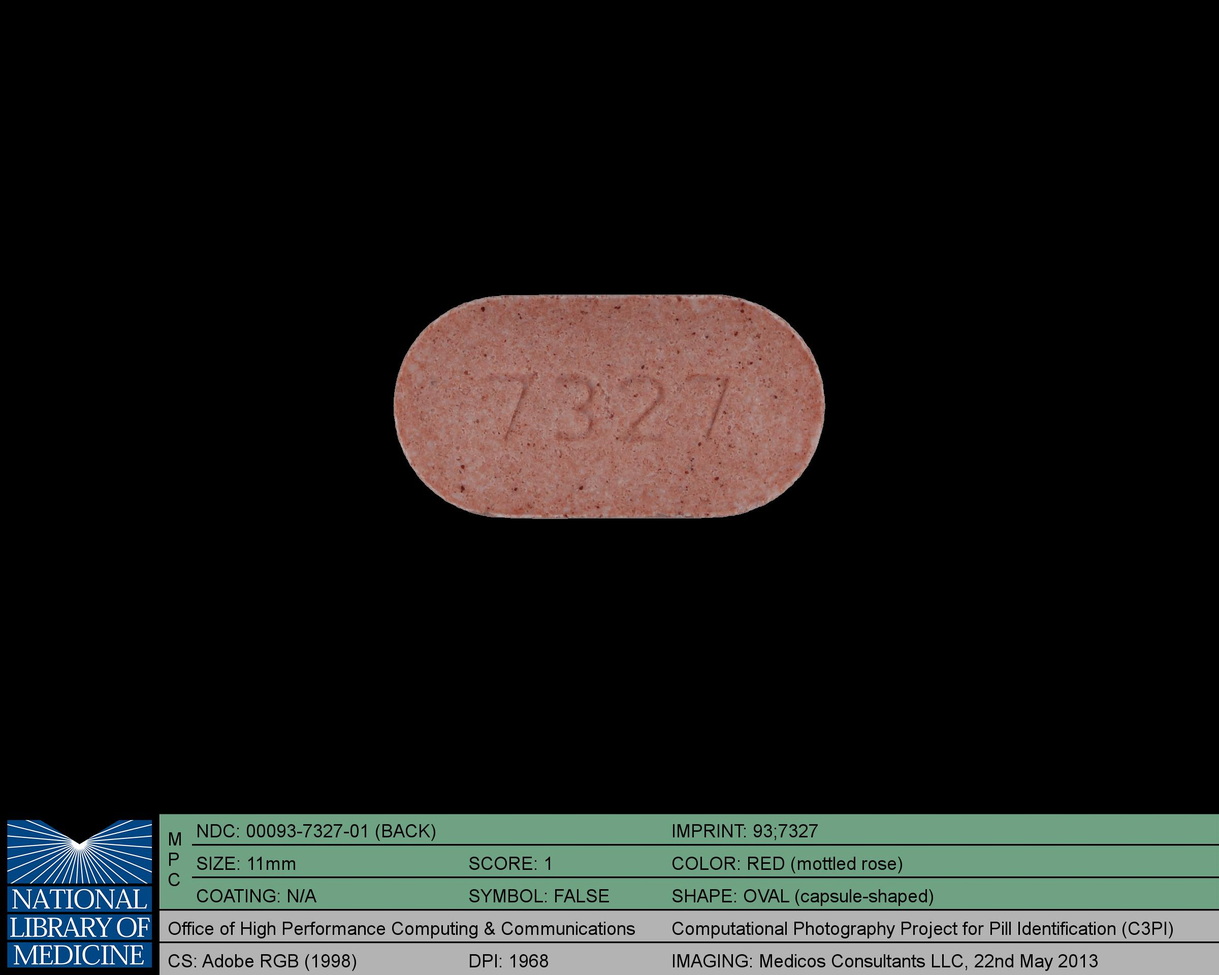Pill: (384, 279, 835, 528)
